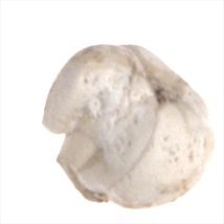L3: (39, 116, 116, 202)
L4: (41, 44, 213, 208)
